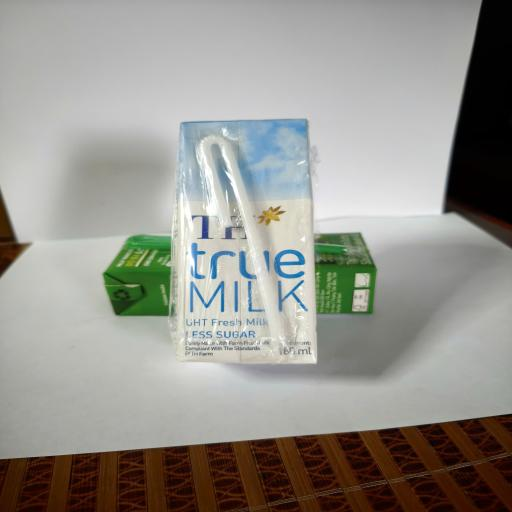milo: (103, 232, 377, 316)
